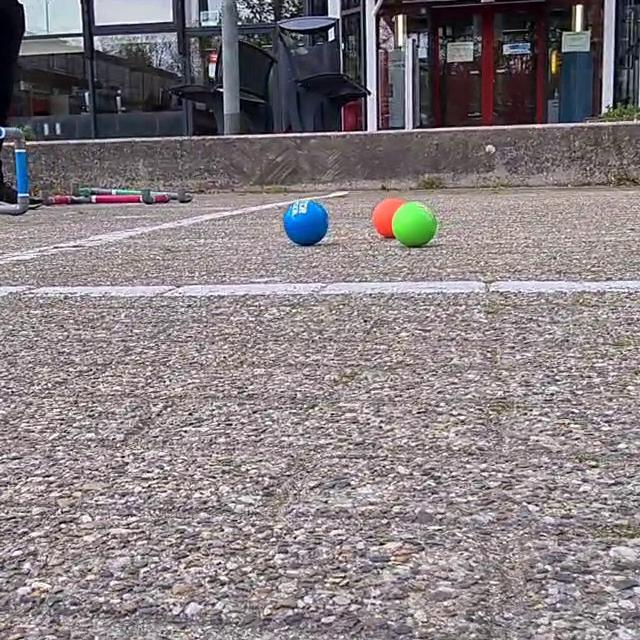ball: (385, 198, 443, 252), (279, 198, 330, 246), (370, 193, 406, 237)
